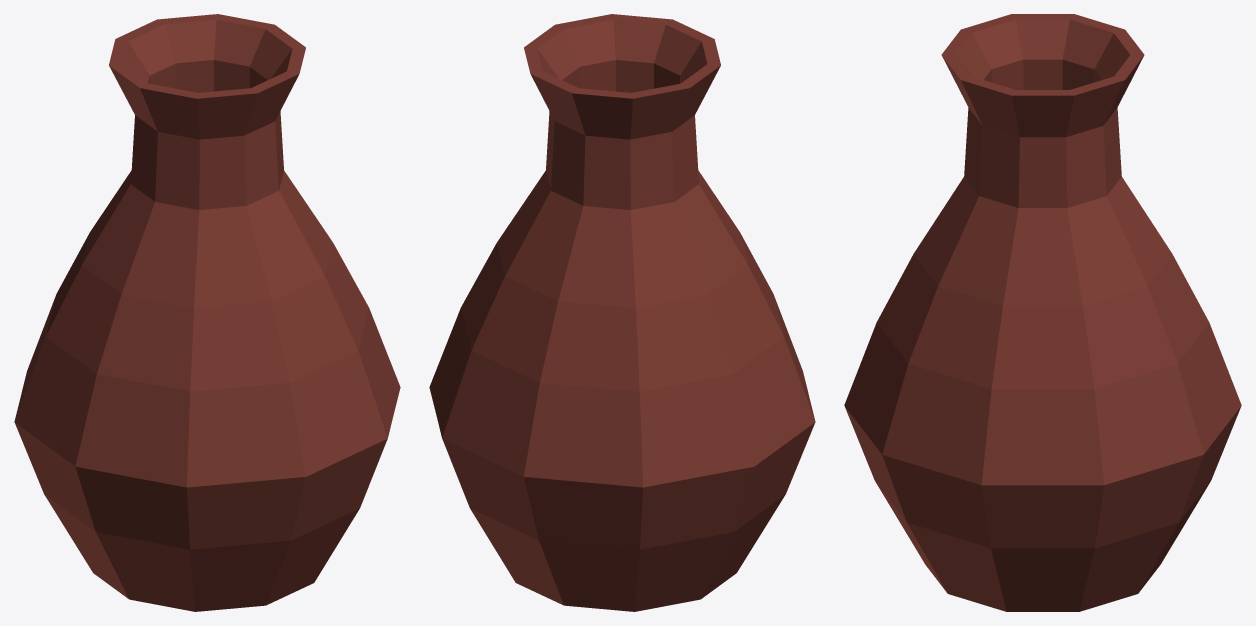
Rendered from Vase.obj.
3 views of the same model, side by side, from view 1: azimuth 30°, elevation 25°; view 2: azimuth 150°, elevation 25°; view 3: azimuth 270°, elevation 25° (orthographic).
Visible parts, largest first — view 1: Cylinder; view 2: Cylinder; view 3: Cylinder.
Part boxes in pixels (<box>): Cylinder: <box>14,14,400,611</box>; Cylinder: <box>429,14,815,611</box>; Cylinder: <box>844,14,1241,611</box>.
Size of the model in its own units: 0.4083 by 0.6077 by 0.4293.
